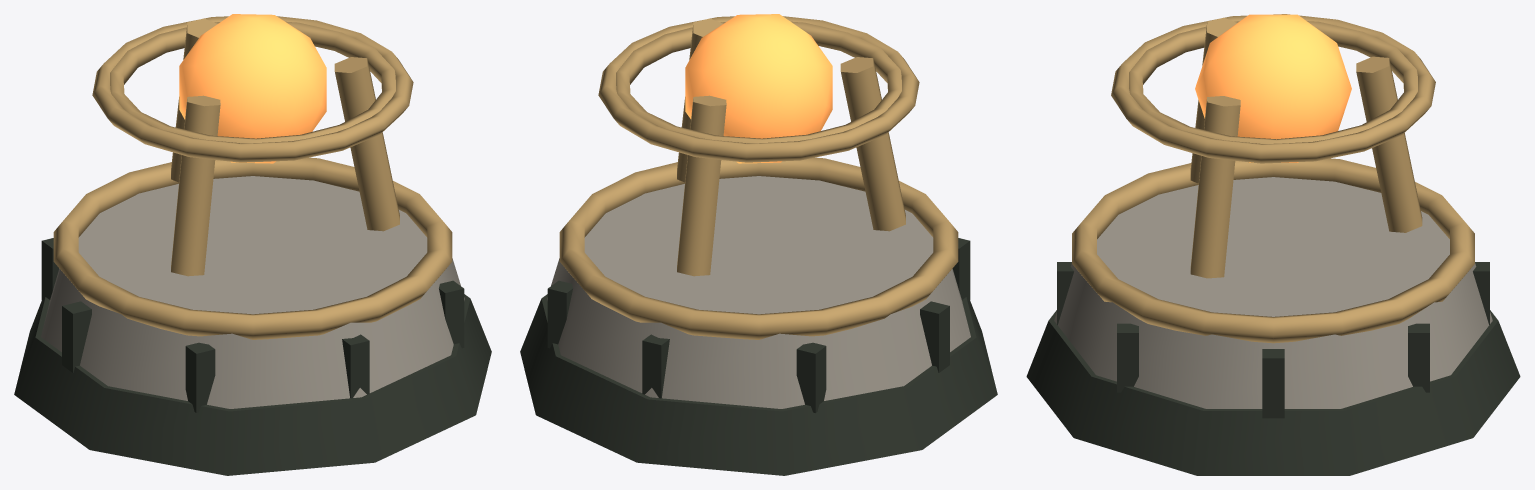
The model's file is tower_meteor_meteorCaller.glb.
3 views of the same model, side by side, from view 1: azimuth 30°, elevation 25°; view 2: azimuth 150°, elevation 25°; view 3: azimuth 270°, elevation 25° (orthographic).
Parts seen in each view (by area): view 1: stone_1, foot_0, rim_2, meteor_14, armillary_16, armillary_15, claw_13, claw_12, mortar_6, mortar_7, mortar_5, mortar_4 (+2 smaller); view 2: stone_1, foot_0, rim_2, meteor_14, armillary_16, armillary_15, claw_11, claw_13, mortar_8, mortar_7, mortar_9, mortar_10 (+2 smaller); view 3: stone_1, foot_0, rim_2, meteor_14, armillary_16, armillary_15, claw_12, claw_11, mortar_3, mortar_4, mortar_10, claw_13 (+2 smaller).
Boxes of the visible parts, <box> form: stone_1: <box>41,176,464,408</box>; foot_0: <box>14,294,491,475</box>; rim_2: <box>53,157,452,339</box>; meteor_14: <box>179,14,326,163</box>; armillary_16: <box>92,16,413,162</box>; armillary_15: <box>110,21,395,143</box>; claw_13: <box>171,95,220,276</box>; claw_12: <box>334,57,399,231</box>; mortar_6: <box>185,342,215,412</box>; mortar_7: <box>62,301,91,372</box>; mortar_5: <box>342,334,369,398</box>; mortar_4: <box>439,280,464,348</box>; stone_1: <box>547,176,970,408</box>; foot_0: <box>520,294,997,475</box>; rim_2: <box>559,157,958,339</box>; meteor_14: <box>685,14,832,163</box>; armillary_16: <box>598,16,919,162</box>; armillary_15: <box>616,21,901,143</box>; claw_11: <box>677,95,726,276</box>; claw_13: <box>840,57,905,231</box>; mortar_8: <box>796,342,826,412</box>; mortar_7: <box>920,301,949,372</box>; mortar_9: <box>642,334,669,398</box>; mortar_10: <box>547,280,572,348</box>; stone_1: <box>1054,177,1492,408</box>; foot_0: <box>1026,310,1520,475</box>; rim_2: <box>1072,158,1474,343</box>; meteor_14: <box>1195,14,1351,162</box>; armillary_16: <box>1111,14,1435,163</box>; armillary_15: <box>1129,21,1417,143</box>; claw_12: <box>1190,96,1240,278</box>; claw_11: <box>1356,56,1422,232</box>; mortar_3: <box>1262,349,1284,418</box>; mortar_4: <box>1117,323,1138,392</box>; mortar_10: <box>1408,323,1429,392</box>; claw_13: <box>1190,17,1236,183</box>.
Bounding box in the file's own units: 0.5326 × 0.449 × 0.56.
